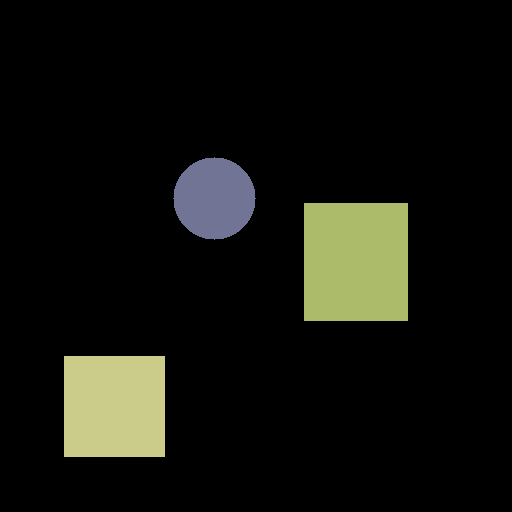circle: (173, 157, 255, 239)
rectangle: (304, 203, 407, 320)
square: (64, 356, 164, 456)
